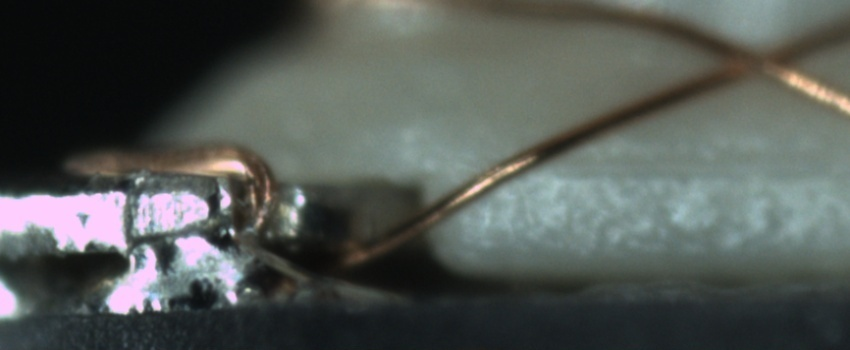CL: (706, 24, 816, 90)
DL: (518, 132, 849, 206)
TE: (58, 135, 283, 244)
